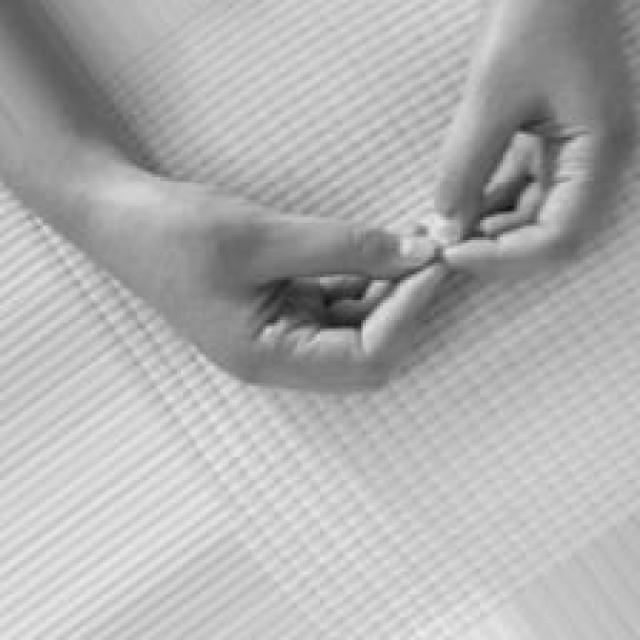B: (186, 0, 638, 393)
